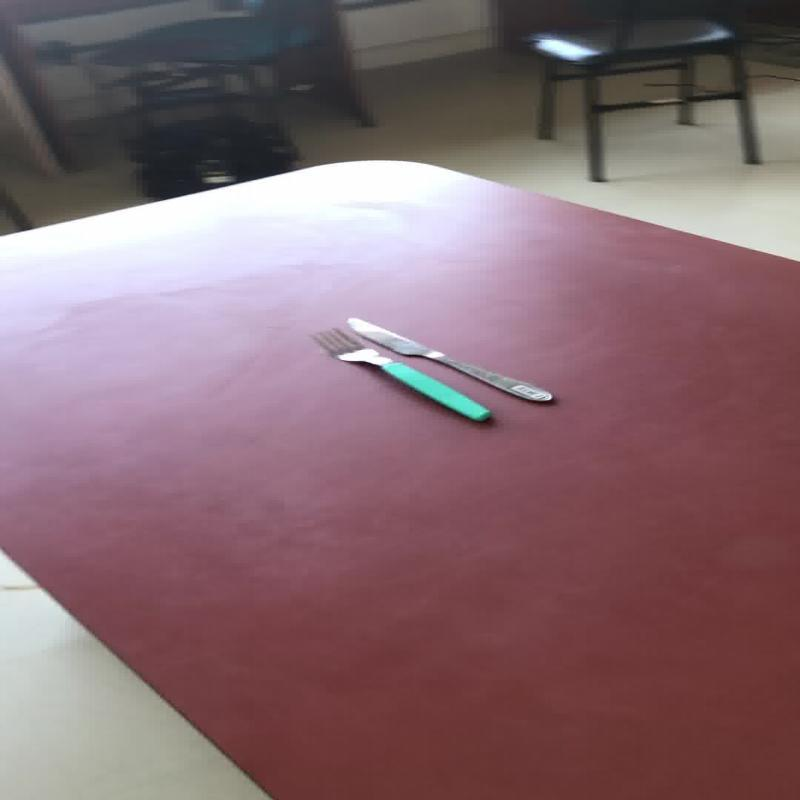fork: (306, 326, 491, 422)
knife: (344, 316, 552, 402)
